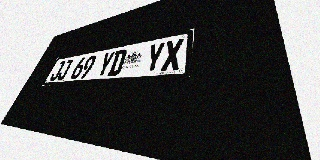6: (69, 56, 88, 79)
9: (78, 55, 98, 79)
D: (107, 49, 128, 76)
J: (56, 59, 73, 81), (48, 61, 66, 81)
X: (161, 38, 184, 71)
Y: (143, 42, 166, 73), (95, 51, 116, 77)
